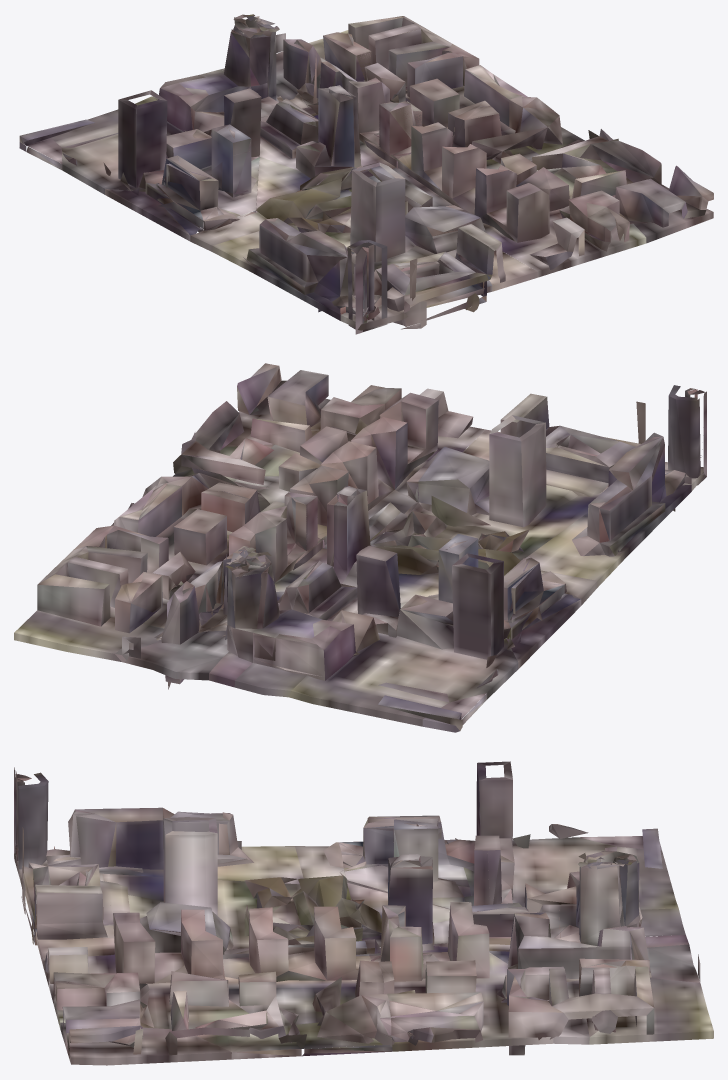
3 views of the same model, one above another, from view 1: azimuth 30°, elevation 25°; view 2: azimuth 150°, elevation 25°; view 3: azimuth 270°, elevation 25° (orthographic). The views are drawn at different scales.
Visible parts, largest first — view 1: Mesh_0; view 2: Mesh_0; view 3: Mesh_0.
Part boxes in pixels (left/top/right/bottom): Mesh_0: left=19, top=14, right=713, bottom=334; Mesh_0: left=14, top=363, right=706, bottom=732; Mesh_0: left=14, top=761, right=713, bottom=1065.
Bounding box in the file's own units: 540 × 153 × 660.
1 material, 1 textured.
